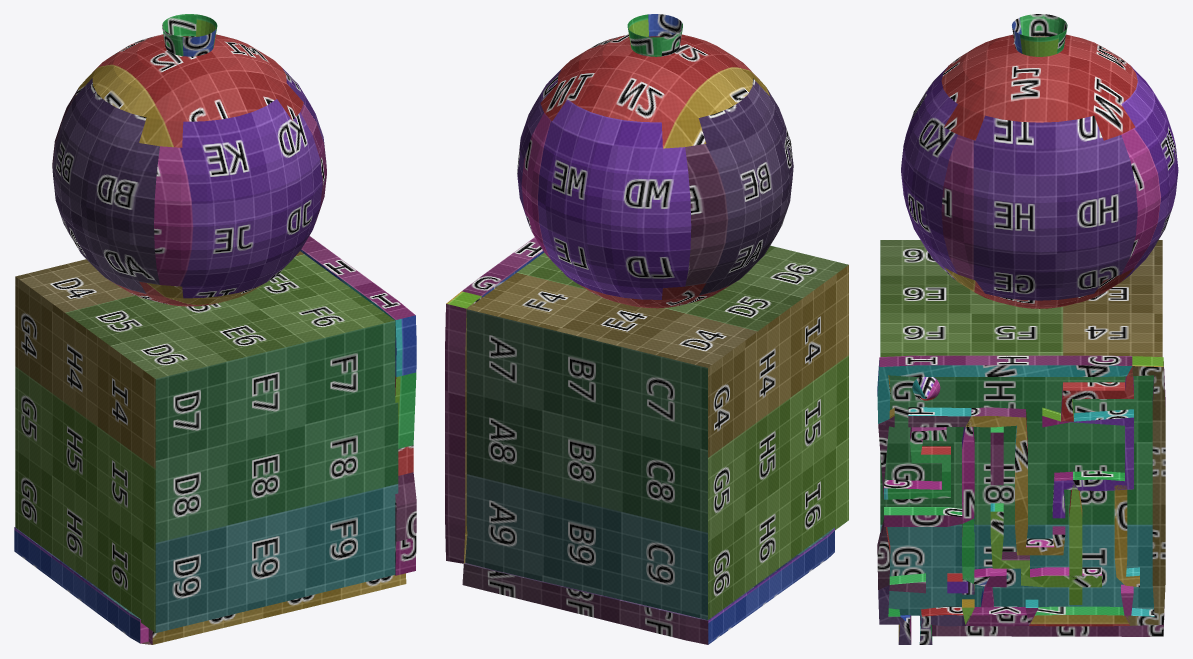
The model's file is Cube_Fish.fbx.
The picture shows the model from 3 angles, left to right: view 1: azimuth 30°, elevation 25°; view 2: azimuth 150°, elevation 25°; view 3: azimuth 270°, elevation 25°; orthographic projection.
Parts seen in each view (by area): view 1: Cube_Fish; view 2: Cube_Fish; view 3: Cube_Fish.
Boxes of the visible parts, bbox=[...] form: Cube_Fish: bbox=[14, 14, 416, 644]; Cube_Fish: bbox=[445, 14, 848, 644]; Cube_Fish: bbox=[877, 14, 1178, 644].
Size of the model in its own units: 26.88 by 51.28 by 25.57.
